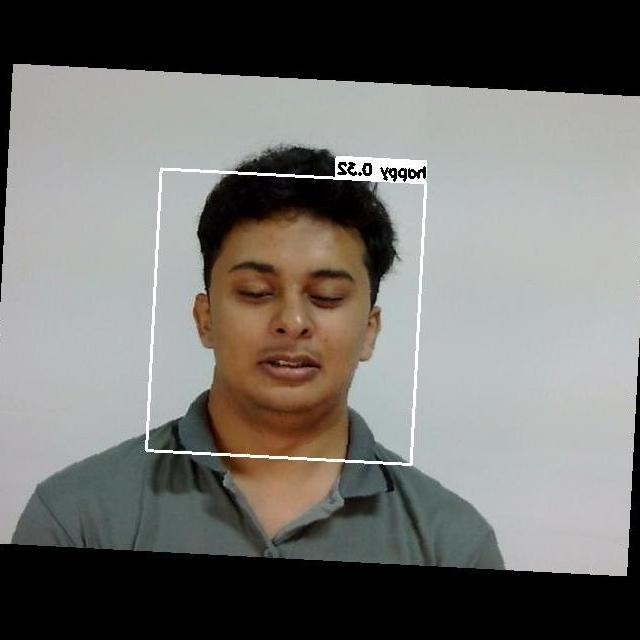Fear: (199, 231, 371, 401)
